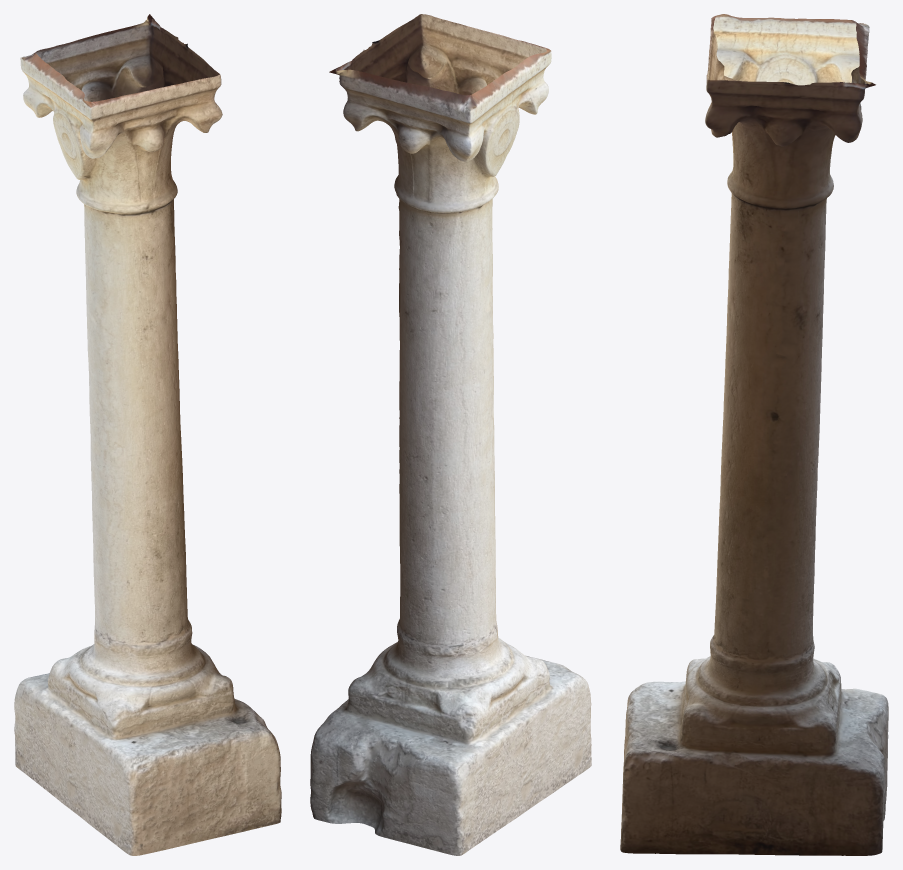
File: column.glb
3 renders of one model, left to right at view 1: azimuth 30°, elevation 25°; view 2: azimuth 150°, elevation 25°; view 3: azimuth 270°, elevation 25°, orthographic. The views are drawn at different scales.
Visible parts, largest first — view 1: Object_2; view 2: Object_2; view 3: Object_2.
Part boxes in pixels (bbox=[...]): Object_2: bbox=[14, 14, 281, 855]; Object_2: bbox=[310, 14, 591, 855]; Object_2: bbox=[620, 14, 888, 855].
Size of the model in its own units: 0.1018 by 0.4483 by 0.1431.
1 material, 1 textured.
